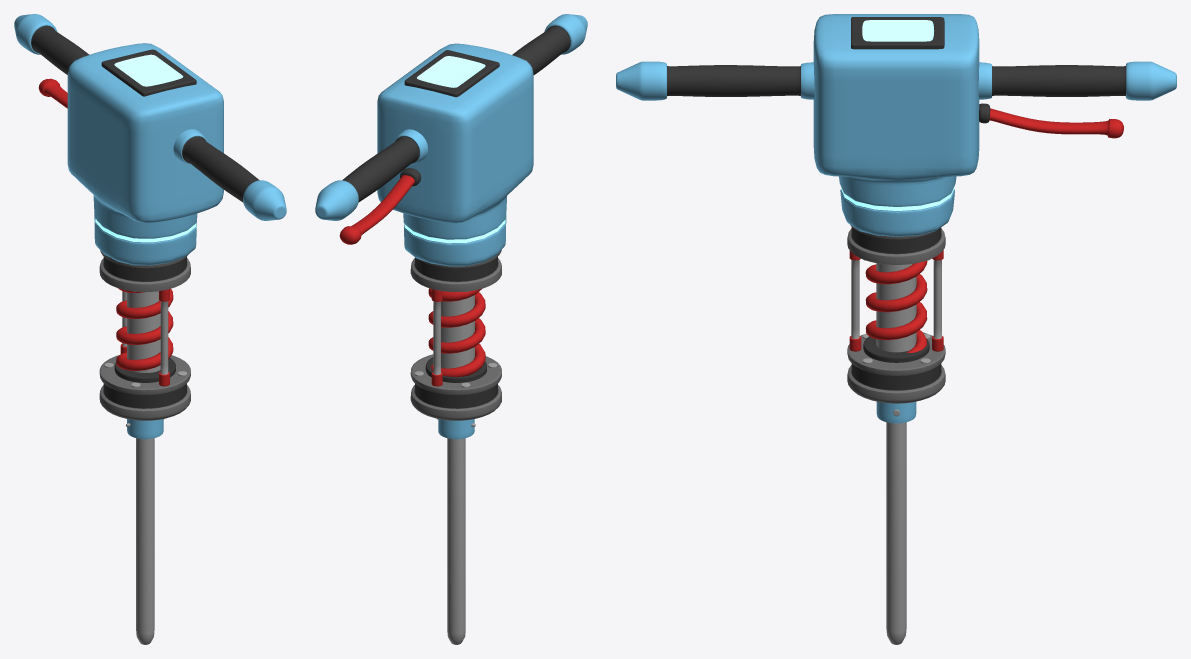
File: Arcomia_Jackhammer.fbx
3 renders of one model, left to right at view 1: azimuth 30°, elevation 25°; view 2: azimuth 150°, elevation 25°; view 3: azimuth 270°, elevation 25°, orthographic. The views are drawn at different scales.
Parts seen in each view (by area): view 1: Main, Handlebar, Wacker, Assembly, Big_Shock, Screen, Assembly_Top, Shock_2, Bottom, Shock_Plate_2, Cube; view 2: Main, Handlebar, Wacker, Big_Shock, Assembly, Screen, Assembly_Top, Cube, Shock, Bottom, Shock_Plate_2; view 3: Main, Handlebar, Big_Shock, Wacker, Assembly, Screen, Assembly_Top, Cube, Shock_2, Shock, Shock_Plate_2.
Boxes of the visible parts, x1,y1,x2,y2 form: Main: (67,43,223,265); Handlebar: (14,14,286,220); Wacker: (136,438,154,644); Assembly: (99,355,190,420); Big_Shock: (116,288,173,372); Screen: (101,49,196,96); Assembly_Top: (99,250,190,291); Shock_2: (159,289,169,386); Bottom: (127,419,163,439); Shock_Plate_2: (114,358,175,382); Cube: (38,78,67,108); Main: (377,43,533,266); Handlebar: (315,14,587,220); Wacker: (447,438,465,644); Big_Shock: (428,288,485,377); Assembly: (410,354,501,420); Screen: (404,50,499,97); Assembly_Top: (410,250,501,291); Cube: (339,168,421,244); Shock: (431,289,442,386); Bottom: (438,419,474,439); Shock_Plate_2: (425,357,486,382); Main: (813,14,979,236); Handlebar: (616,61,1176,100); Big_Shock: (865,260,927,352); Wacker: (886,422,906,644); Assembly: (847,332,945,403); Screen: (851,17,944,49); Assembly_Top: (847,224,945,264); Cube: (979,103,1123,138); Shock_2: (849,250,861,351); Shock: (932,250,943,351); Shock_Plate_2: (863,336,929,362).
Size of the model in its own units: 11.41 by 67.56 by 55.83.
